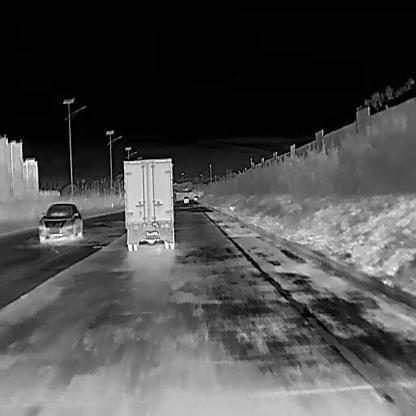car: (122, 156, 176, 250), (37, 203, 82, 242), (183, 194, 189, 202), (193, 194, 199, 199)
